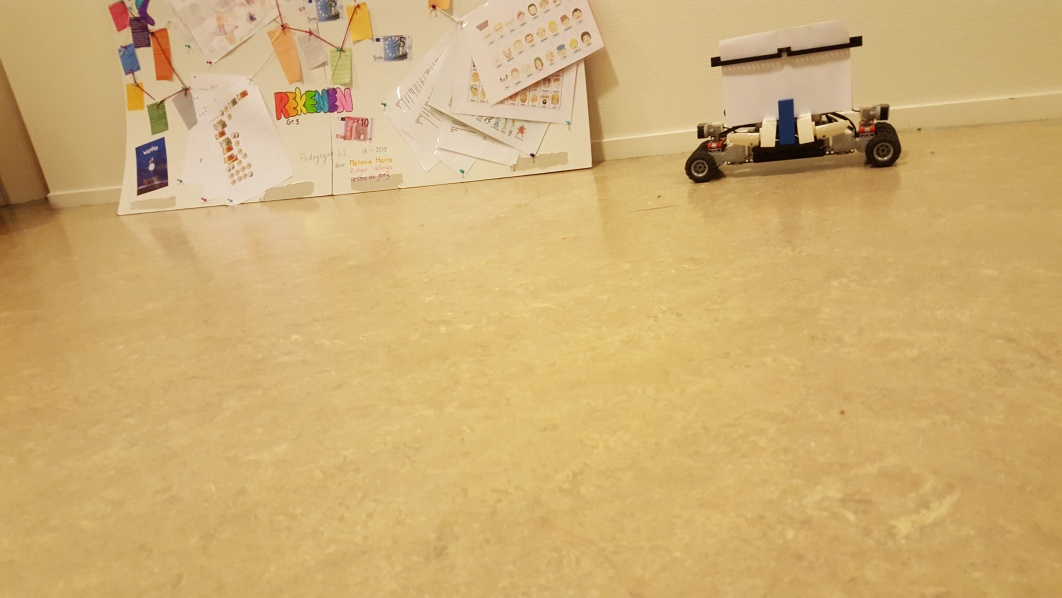beam: (777, 98, 796, 148)
